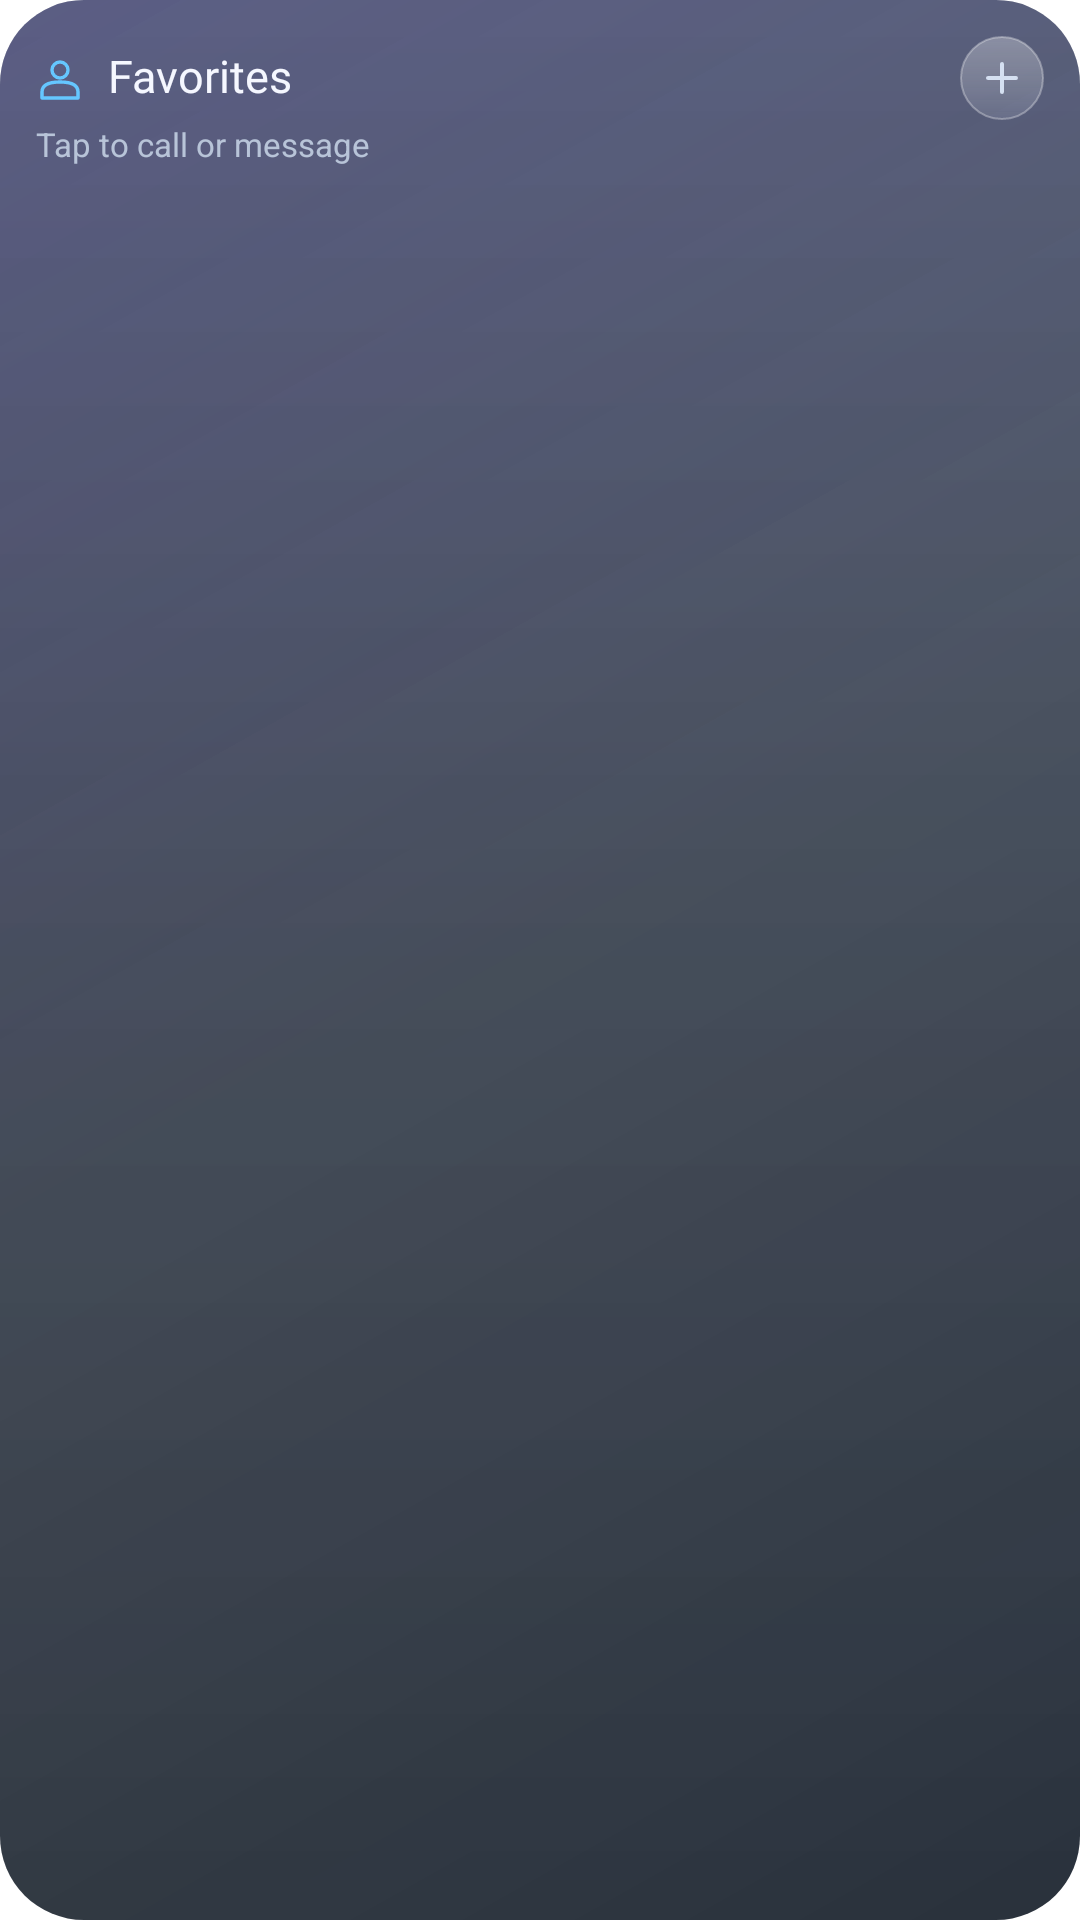

Icon click points for this 1080×1920 phone screenshot, format (x=x, y=y):
widget contacts: (x=60, y=80)
